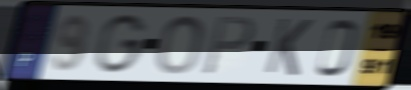0: (315, 18, 360, 79)
9: (50, 12, 95, 74)
G: (93, 13, 150, 75)
K: (262, 16, 315, 79)
O: (155, 14, 207, 77)
P: (200, 15, 258, 77)
